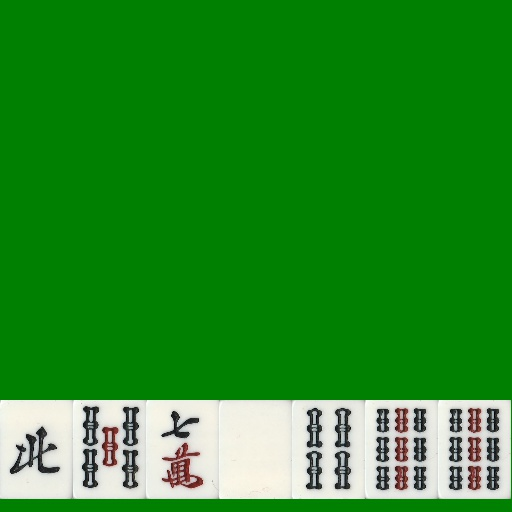4s: (292, 400, 365, 499)
5s: (73, 400, 146, 499)
7m: (146, 400, 219, 499)
9s: (365, 400, 438, 499), (438, 400, 511, 499)
north: (0, 400, 73, 499)
white: (219, 400, 292, 499)
